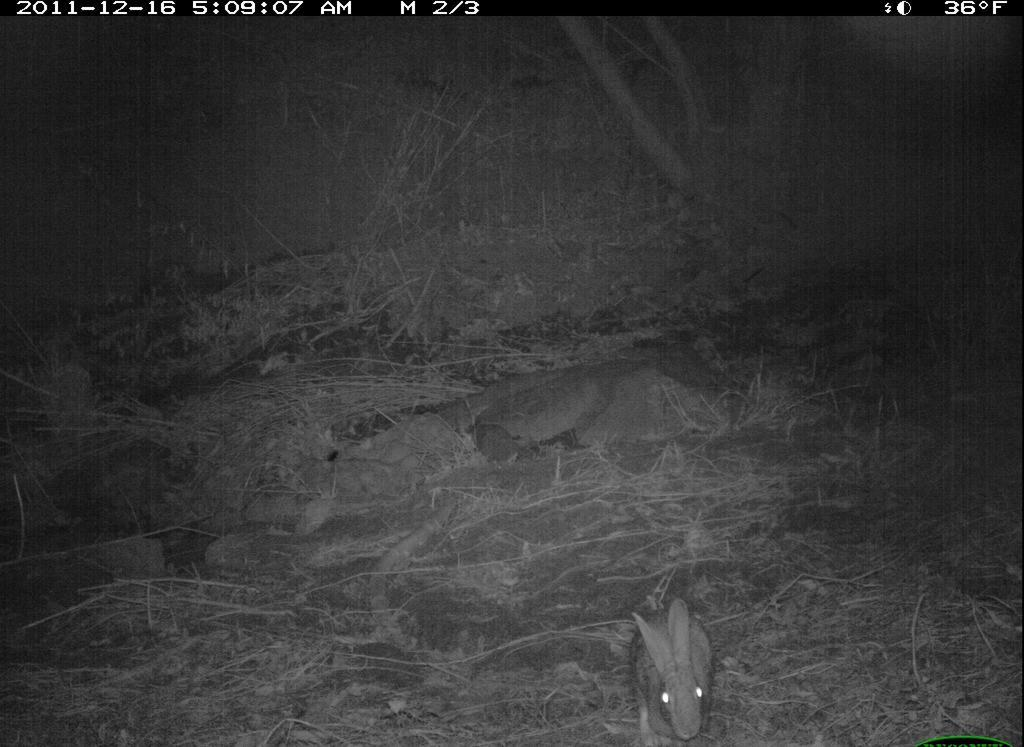rabbit: (609, 597, 717, 742)
